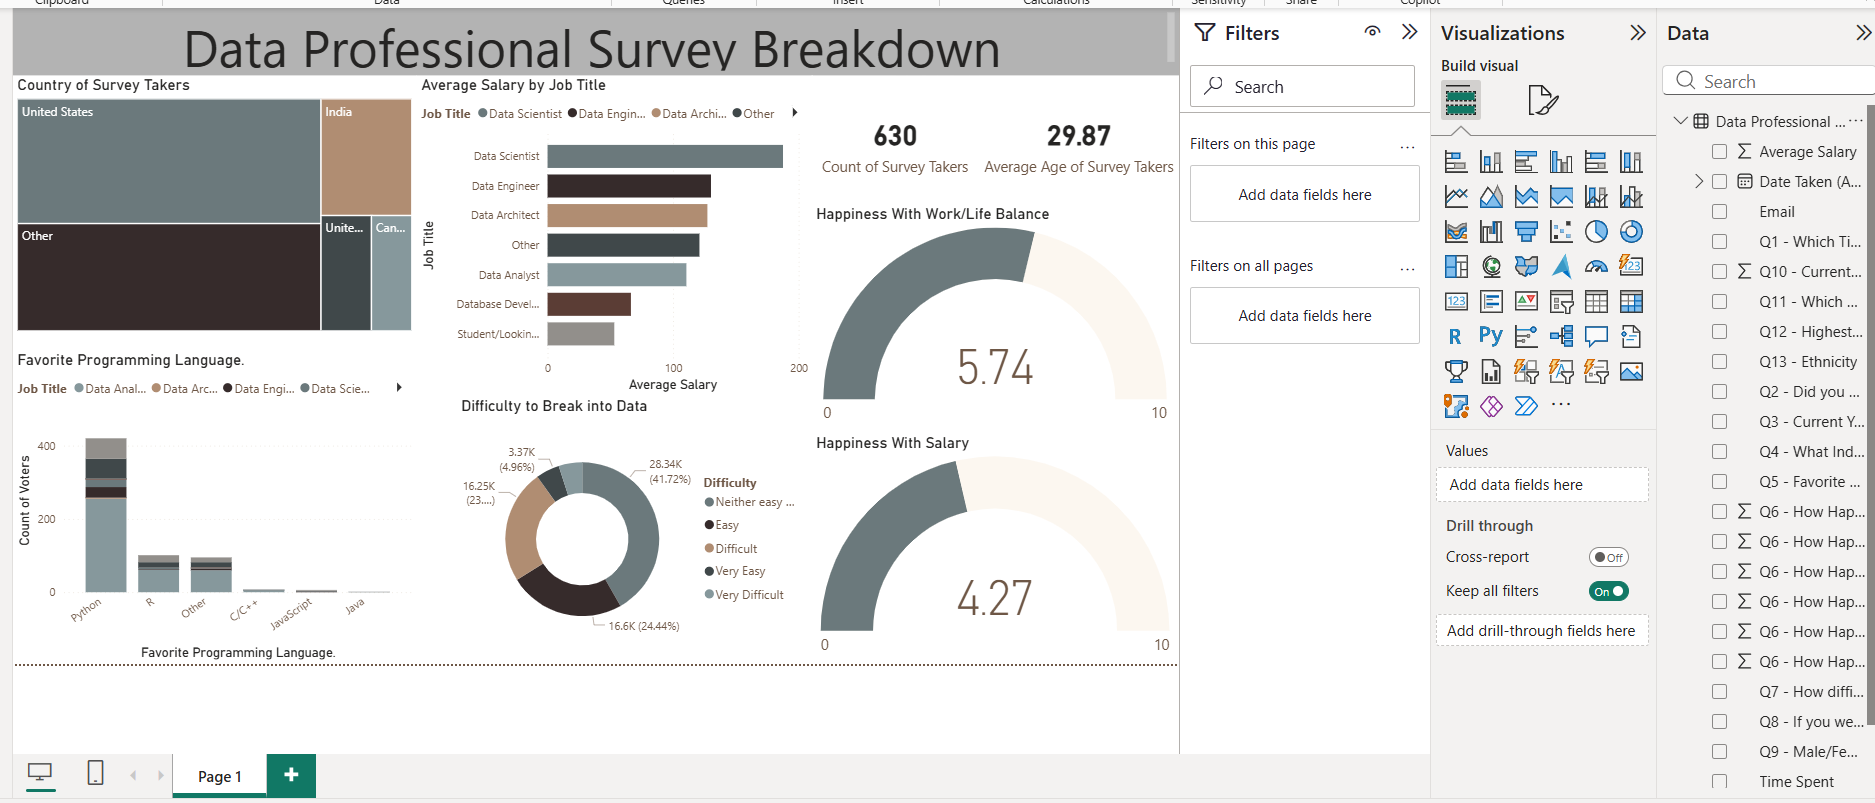

The page's visual inventory and layout, read from the dashboard file:
{"tool":"powerbi","page":{"name":"Page 1","canvas":[1280,720],"ordinal":0},"visuals":[{"type":"textbox","box":[0,0,1280.3,74.1],"z":0},{"type":"card","fields":{"Values":["Count(Data Professional Survey.Unique ID)"]},"box":[877.4,74.6,183.5,149.1],"z":1000},{"type":"card","fields":{"Values":["Avg(Data Professional Survey.Q10 - Current Age)"]},"box":[1060.9,74.6,219.4,149.1],"z":2000},{"type":"barChart","title":"Average Salary by Job Title","fields":{"Category":["Data Professional Survey.Q1 - Which Title Best Fits your Current Role?.1"],"Y":["Avg(Data Professional Survey.Average Salary)"],"Series":["Data Professional Survey.Q1 - Which Title Best Fits your Current Role?.1"]},"box":[443,74.6,434.4,352.7],"z":3000},{"type":"columnChart","title":"Favorite Programming Language.","fields":{"Category":["Data Professional Survey.Q5 - Favorite Programming Language.1"],"Y":["CountNonNull(Data Professional Survey.Unique ID)"],"Series":["Data Professional Survey.Q1 - Which Title Best Fits your Current Role?.1"]},"box":[0,375.6,443,344.1],"z":4000},{"type":"treemap","title":"Country of Survey Takers","fields":{"Group":["Data Professional Survey.Q11 - Which Country do you live in?.1"],"Values":["CountNonNull(Data Professional Survey.Q11 - Which Country do you live in?.1)"]},"box":[0,74.6,443,285.3],"z":5000},{"type":"gauge","title":"Happiness With Work/Life Balance","fields":{"Y":["Avg(Data Professional Survey.Q6 - How Happy are you in your Current Position with the following? (Work/Life Balance))"],"MinValue":["Min(Data Professional Survey.Q6 - How Happy are you in your Current Position with the following? (Work/Life Balance))1"],"MaxValue":["Max(Data Professional Survey.Q6 - How Happy are you in your Current Position with the following? (Work/Life Balance))2"]},"box":[877.4,215.1,402.9,250.9],"z":5001},{"type":"gauge","title":"Happiness With Salary","fields":{"Y":["Avg(Data Professional Survey.Q6 - How Happy are you in your Current Position with the following? (Salary))"],"MinValue":["Min(Data Professional Survey.Q6 - How Happy are you in your Current Position with the following? (Salary))"],"MaxValue":["Max(Data Professional Survey.Q6 - How Happy are you in your Current Position with the following? (Salary))"]},"box":[877.4,466,402.9,253.8],"z":5002},{"type":"donutChart","title":"Difficulty to Break into Data","fields":{"Category":["Data Professional Survey.Q7 - How difficult was it for you to break into Data?"],"Y":["Sum(Data Professional Survey.Average Salary)"]},"box":[487.5,427.2,390,292.5],"z":5003}]}

Visuals, with their boxes on the page's 1280x720 design canvas (x1, y1, x2, y2). These are canvas units, not pixel positions in the 1875x803 screenshot, which may show the page scaled, cropped or inside an application window:
textbox: (0, 0, 1280, 74)
card - Count(Data Professional Survey.Unique ID): (877, 75, 1061, 224)
card - Avg(Data Professional Survey.Q10 - Current Age): (1061, 75, 1280, 224)
"Average Salary by Job Title" barChart: (443, 75, 877, 427)
"Favorite Programming Language." columnChart: (0, 376, 443, 720)
"Country of Survey Takers" treemap: (0, 75, 443, 360)
"Happiness With Work/Life Balance" gauge: (877, 215, 1280, 466)
"Happiness With Salary" gauge: (877, 466, 1280, 720)
"Difficulty to Break into Data" donutChart: (488, 427, 878, 720)
